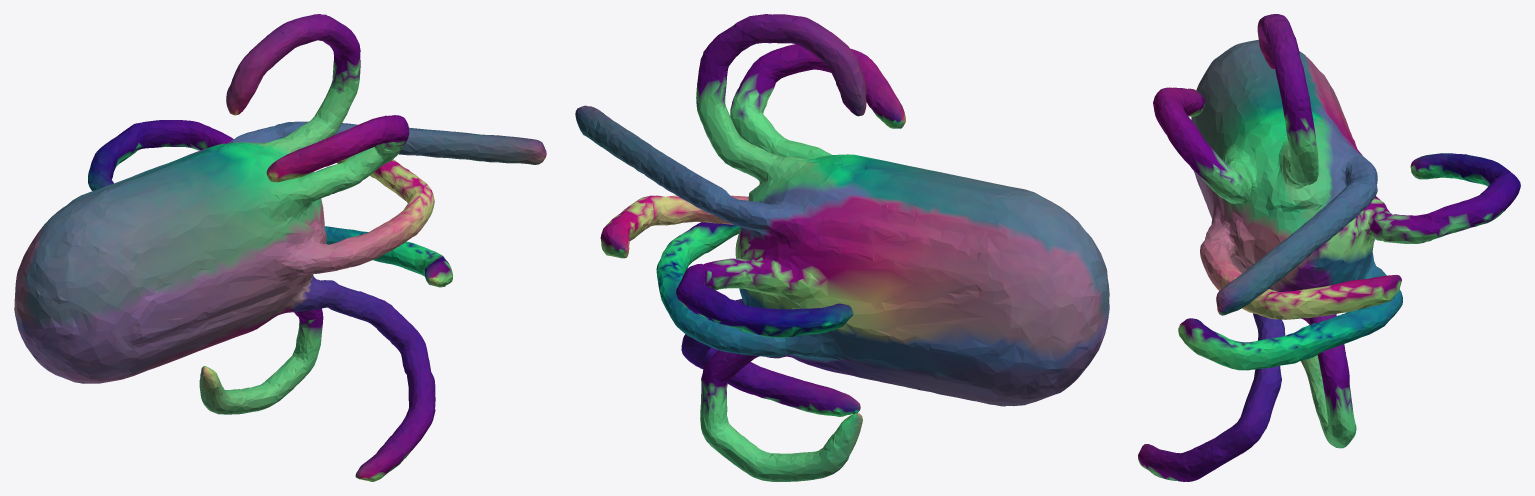
Rendered from octopus-5.off.obj.
3 views of the same model, side by side, from view 1: azimuth 30°, elevation 25°; view 2: azimuth 150°, elevation 25°; view 3: azimuth 270°, elevation 25° (orthographic). The views are drawn at different scales.
Bounding box in the file's own units: 1.6 × 1.28 × 1.
